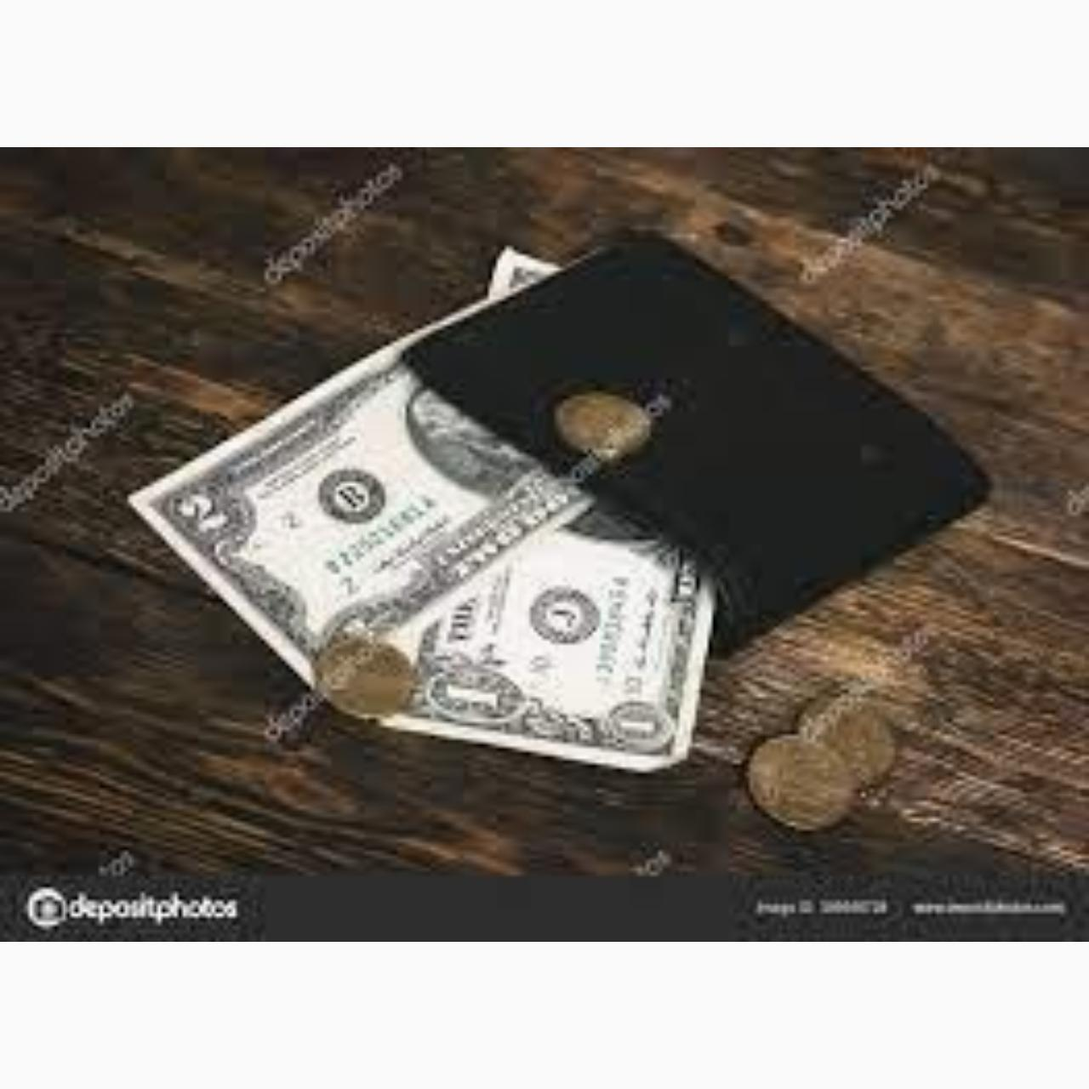wallet: (308, 197, 1032, 623)
